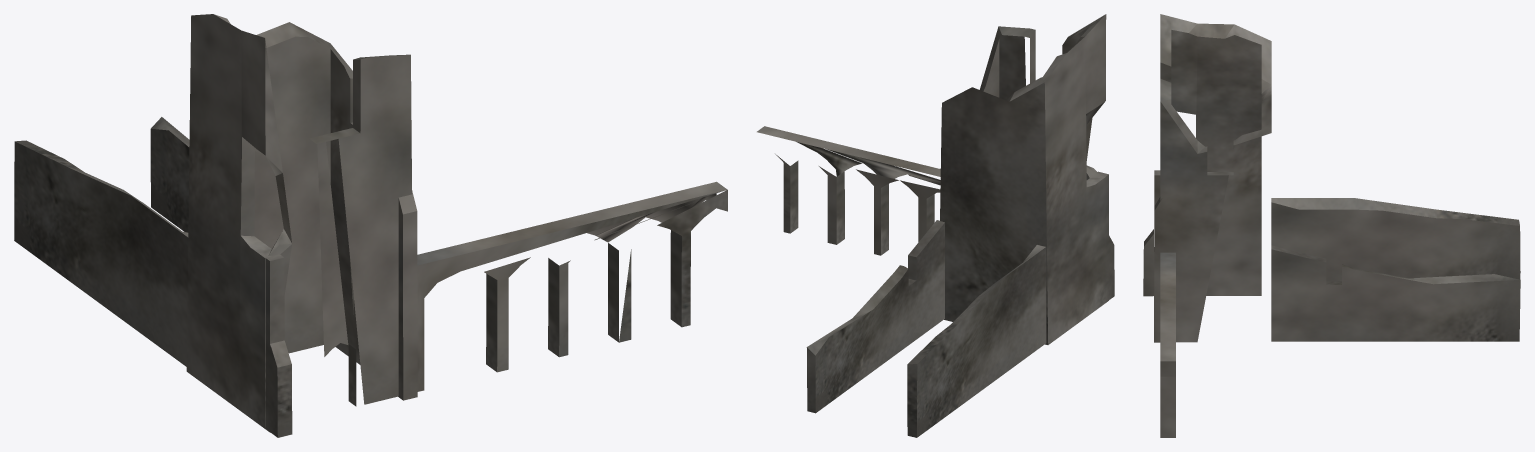
File: church2.gltf
The picture shows the model from 3 angles, left to right: view 1: azimuth 30°, elevation 25°; view 2: azimuth 150°, elevation 25°; view 3: azimuth 270°, elevation 25°; orthographic projection. The views are drawn at different scales.
Visible parts, largest first — view 1: church2_atomic0; view 2: church2_atomic0; view 3: church2_atomic0.
Part boxes in pixels (x1,y1,x2,y2): church2_atomic0: (14,14,727,437); church2_atomic0: (757,14,1114,437); church2_atomic0: (1143,14,1520,437).
Size of the model in its own units: 190 by 154 by 190.
Materials: 1 (1 with a texture image).
